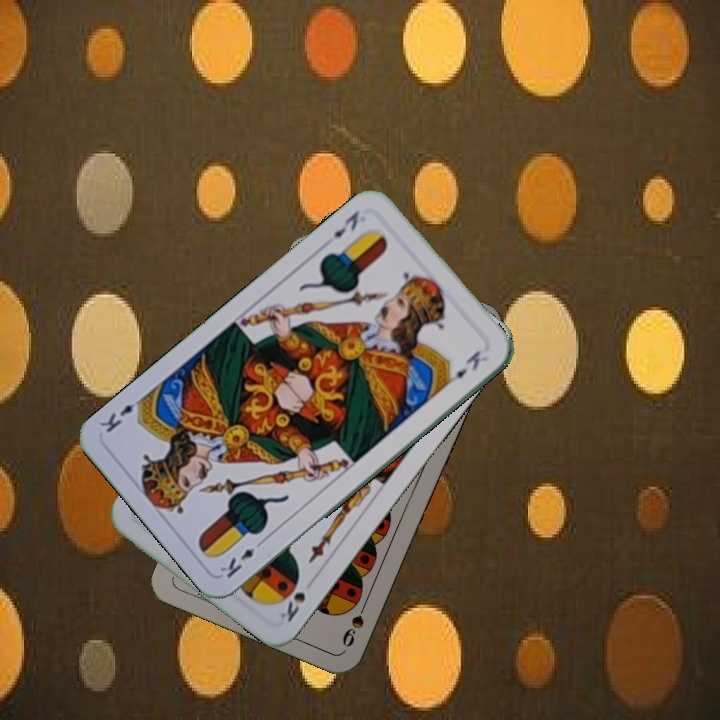EK: (215, 534, 268, 581), (329, 206, 362, 241)
S9: (338, 595, 371, 650)
SK: (276, 588, 308, 625)
